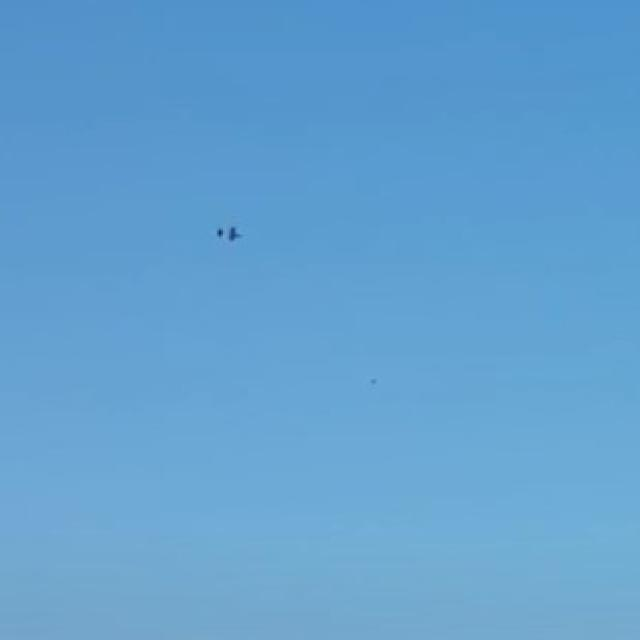iha: (215, 225, 245, 242)
